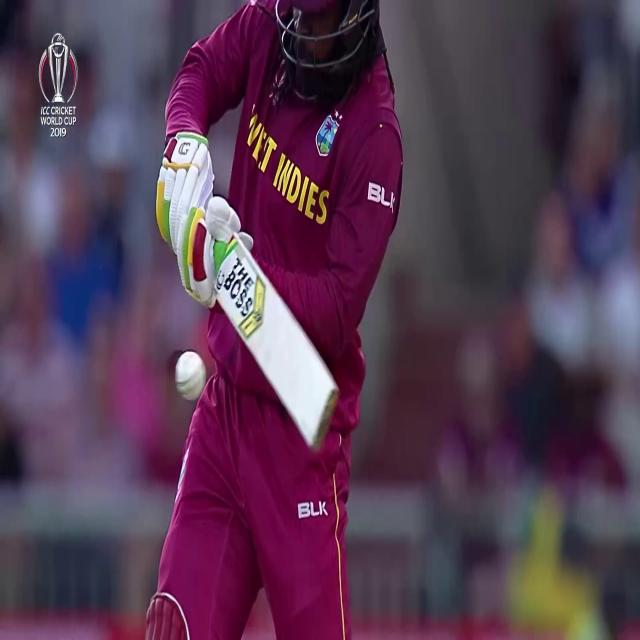ball: (174, 348, 209, 405)
